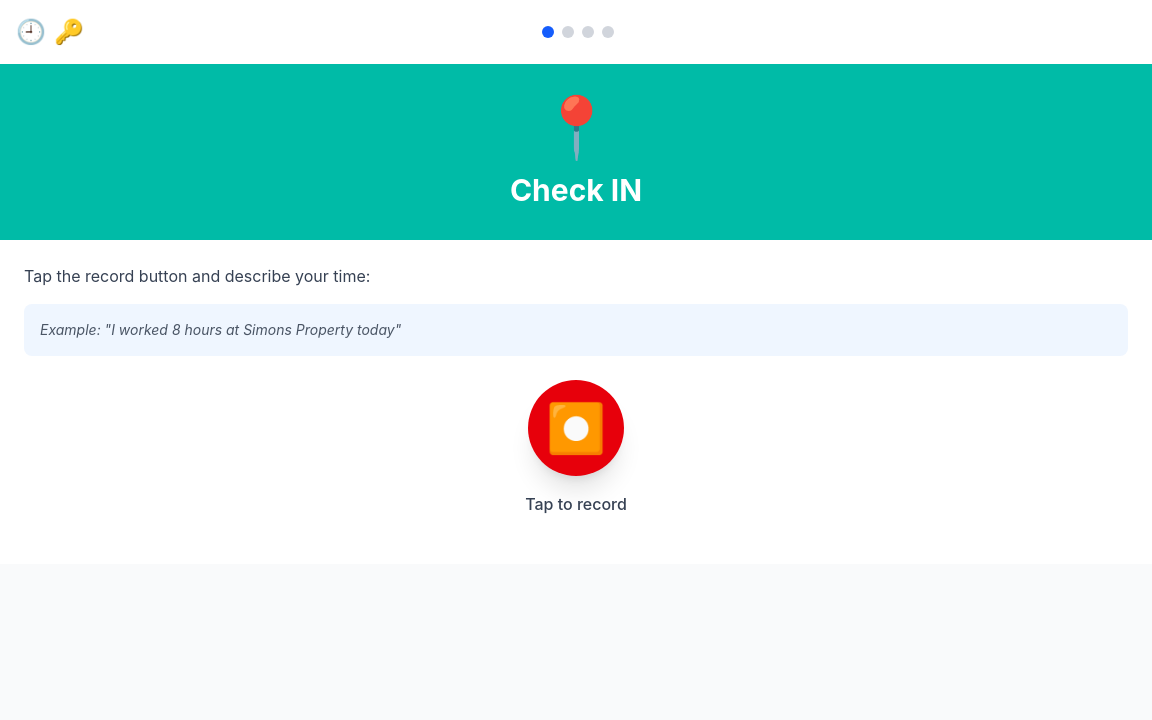
Test: WorkerUI › cycles to next action when navigation dot clicked
The width and height of the screenshot is (1152, 720).
What coordinates should you click on to do the following:
click the button named "go to check out"
I would click on:
 (568, 32)
Its box is [562,26,574,38].
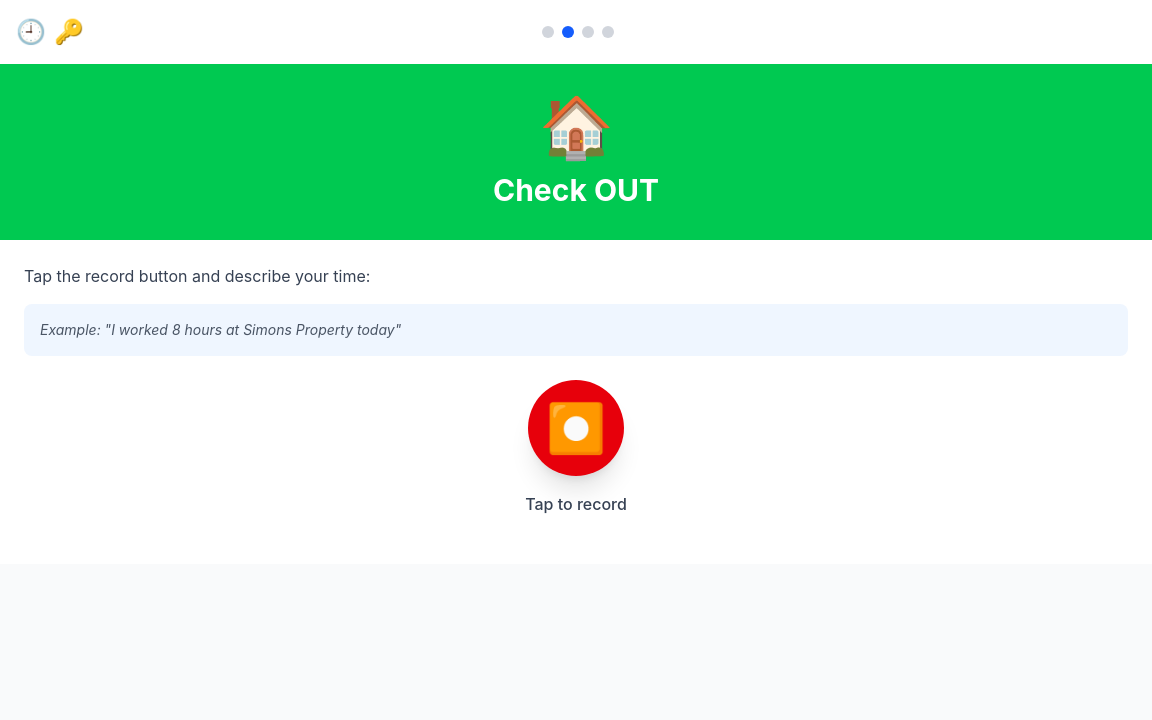
Check: the heading "Check OUT" is shown, box [493,172,659,208]
